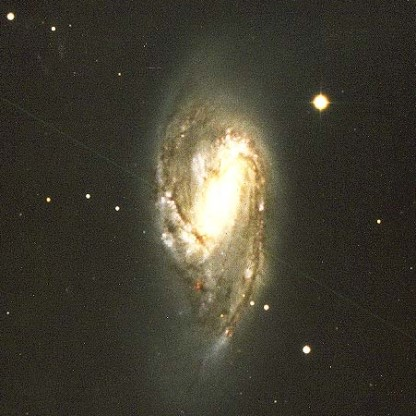Messier 66: (129, 79, 345, 372)
